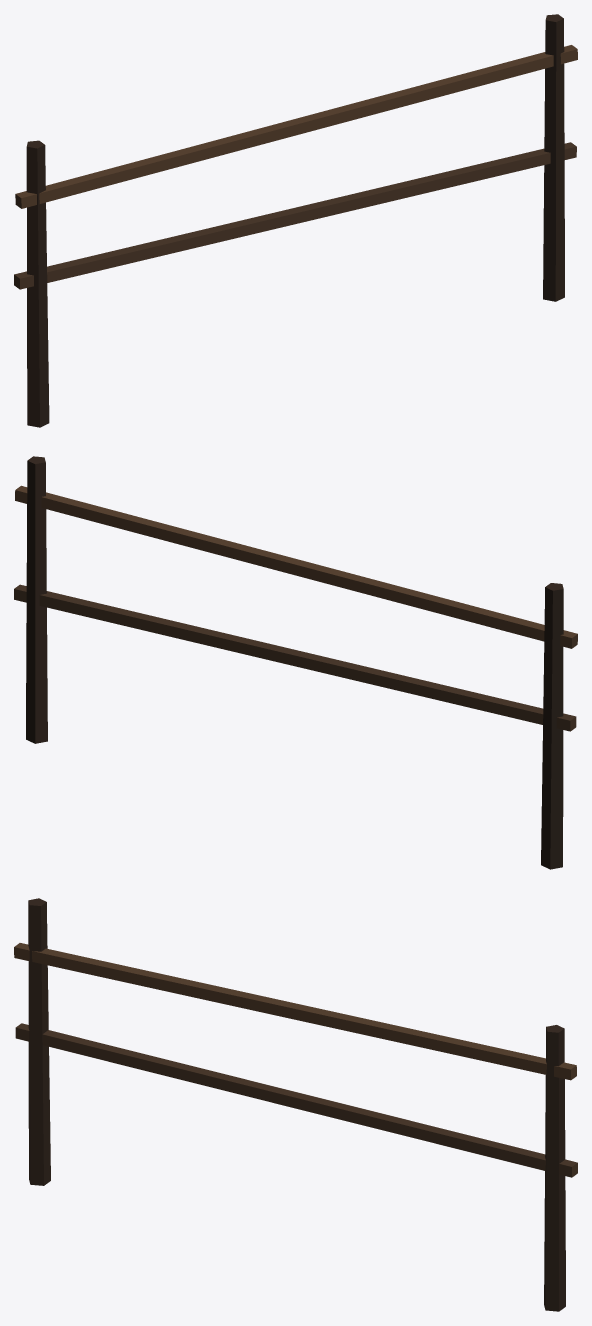
The model's file is fence.glb.
The picture shows the model from 3 angles, top to bottom: view 1: azimuth 30°, elevation 25°; view 2: azimuth 150°, elevation 25°; view 3: azimuth 330°, elevation 25°; orthographic projection.
Visible parts, largest first — view 1: fence; view 2: fence; view 3: fence.
Part boxes in pixels (x1,y1,x2,y2): fence: (14, 14, 577, 427); fence: (14, 456, 577, 869); fence: (14, 898, 577, 1311).
Bounding box in the file's own units: 3.24 × 1.55 × 0.1141.
Materials: 1 (1 with a texture image).
